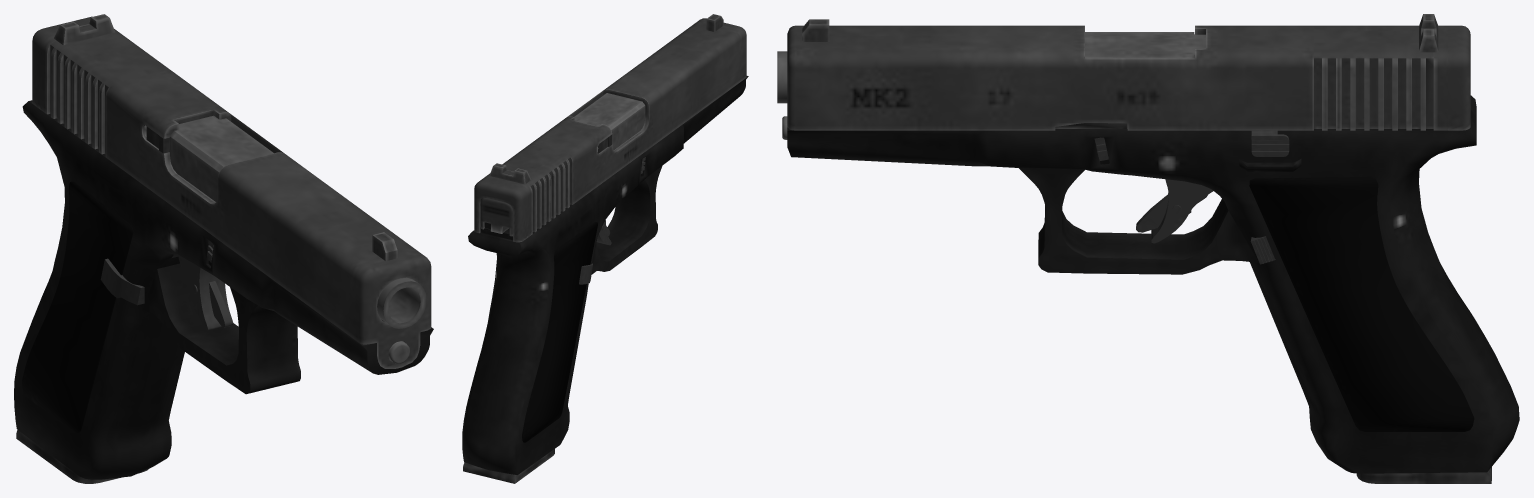
Rendered from Pistol_Servis.fbx.
The picture shows the model from 3 angles, left to right: view 1: azimuth 30°, elevation 25°; view 2: azimuth 150°, elevation 25°; view 3: azimuth 270°, elevation 25°; orthographic projection. The views are drawn at different scales.
Visible parts, largest first — view 1: GunMesh; view 2: GunMesh; view 3: GunMesh.
Boxes of the visible parts, left/top/right/bottom form: GunMesh: left=14, top=14, right=433, bottom=483; GunMesh: left=462, top=14, right=748, bottom=483; GunMesh: left=777, top=14, right=1519, bottom=483.
Size of the model in its own units: 0.0264 by 0.125 by 0.19.
Materials: 1 (1 with a texture image).
